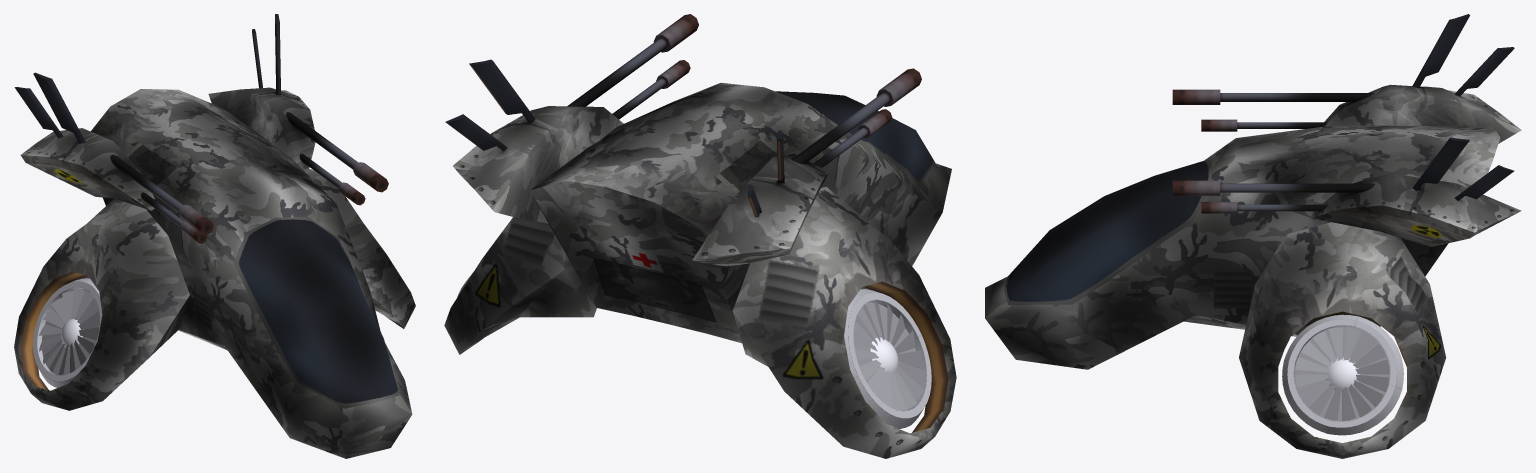
The model's file is bot_1.glb.
The picture shows the model from 3 angles, left to right: view 1: azimuth 30°, elevation 25°; view 2: azimuth 150°, elevation 25°; view 3: azimuth 270°, elevation 25°; orthographic projection. The views are drawn at different scales.
Visible parts, largest first — view 1: PA_ArchfireBody, PA_ArchfireLeftRing, PA_ArchfireRightRing, Fan_Wings_01, Fan_01; view 2: PA_ArchfireBody, PA_ArchfireLeftRing, PA_ArchfireRightRing, Fan_01, Fan_Wings_01; view 3: PA_ArchfireBody, PA_ArchfireRightRing, Fan_01_3, Fan_Wings_01_1.
Part boxes in pixels (box(x1,y1,x2,y2)): PA_ArchfireBody: box(14, 14, 412, 458); PA_ArchfireLeftRing: box(14, 198, 189, 410); PA_ArchfireRightRing: box(306, 168, 415, 328); Fan_Wings_01: box(38, 288, 99, 375); Fan_01: box(33, 278, 102, 387); PA_ArchfireBody: box(445, 14, 951, 343); PA_ArchfireLeftRing: box(732, 187, 956, 458); PA_ArchfireRightRing: box(444, 217, 596, 354); Fan_01: box(844, 289, 931, 428); Fan_Wings_01: box(853, 301, 925, 410); PA_ArchfireBody: box(985, 14, 1521, 369); PA_ArchfireRightRing: box(1239, 222, 1446, 458); Fan_01_3: box(1282, 314, 1403, 435); Fan_Wings_01_1: box(1295, 327, 1389, 420).
Bounding box in the file's own units: 0.9961 × 0.7076 × 1.18.
2 materials, 2 textured.
